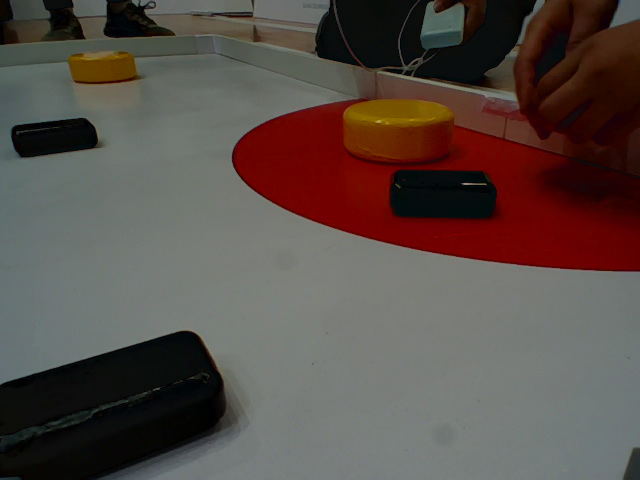black: (1, 325, 232, 471), (387, 167, 499, 220), (10, 117, 102, 157)
yellow: (342, 95, 451, 166), (69, 48, 141, 83)
